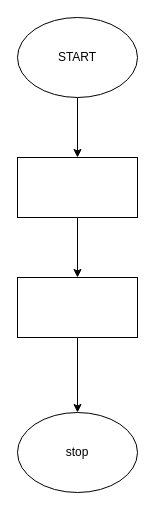
This 155x510 diagram has some shape labels left out. The centre of each missing label's shape, as x and y in pixels:
a/b: the point at 77,307
pobierz a, b: the point at 77,187
